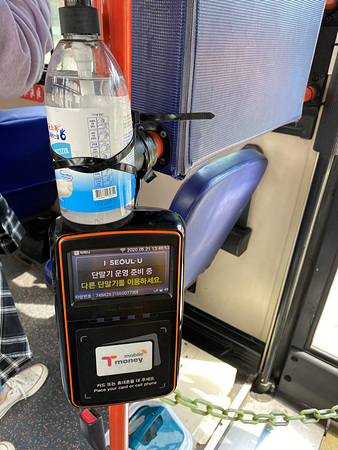terminal: (55, 221, 182, 399)
